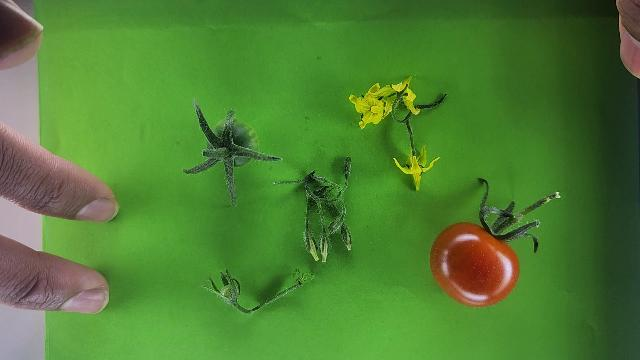Anthesis: (394, 144, 442, 191), (350, 85, 392, 126), (387, 76, 416, 114)
Flower Bud: (308, 235, 319, 261), (320, 236, 328, 262), (345, 235, 352, 250)
Fruit Bud: (220, 283, 236, 300)
Fruit Maturation: (209, 117, 260, 167)
Fully Grown: (428, 220, 521, 308)
